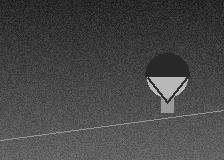helmet: (145, 53, 189, 102)
